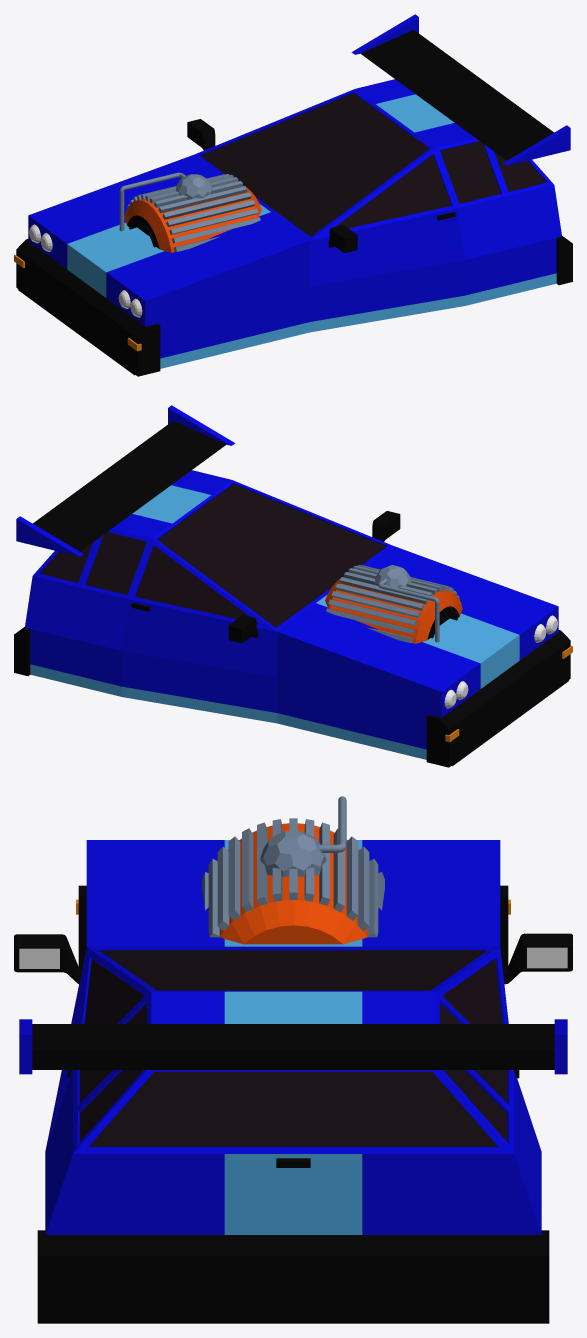
Rendered from hotrod_body.fbx.
3 views of the same model, one above another, from view 1: azimuth 30°, elevation 25°; view 2: azimuth 150°, elevation 25°; view 3: azimuth 270°, elevation 25° (orthographic). The views are drawn at different scales.
Visible parts, largest first — view 1: Hot Rod Body, spoiler, motor, spoiler end caps, headlights.002, right mirror.002, left miror.002; view 2: Hot Rod Body, spoiler, motor, spoiler end caps, headlights.002, left miror.002, right mirror.002; view 3: Hot Rod Body, spoiler, motor, right mirror.002, left miror.002, spoiler end caps.
Part boxes in pixels (x1,y1,x2,y2): Hot Rod Body: [16, 79, 572, 376]; spoiler: [360, 30, 553, 160]; motor: [119, 172, 261, 252]; spoiler end caps: [351, 14, 570, 165]; headlights.002: [29, 224, 142, 317]; right mirror.002: [187, 119, 215, 150]; left miror.002: [328, 225, 357, 252]; Hot Rod Body: [14, 470, 570, 767]; spoiler: [33, 421, 225, 551]; motor: [325, 565, 462, 643]; spoiler end caps: [16, 405, 235, 556]; headlights.002: [444, 615, 557, 708]; left miror.002: [372, 511, 400, 541]; right mirror.002: [228, 615, 258, 643]; Hot Rod Body: [37, 840, 549, 1323]; spoiler: [32, 1024, 554, 1069]; motor: [202, 796, 384, 944]; right mirror.002: [502, 933, 572, 984]; left miror.002: [14, 934, 82, 983]; spoiler end caps: [19, 1019, 567, 1074].
Bounding box in the file's own units: 629 × 406 × 226.
